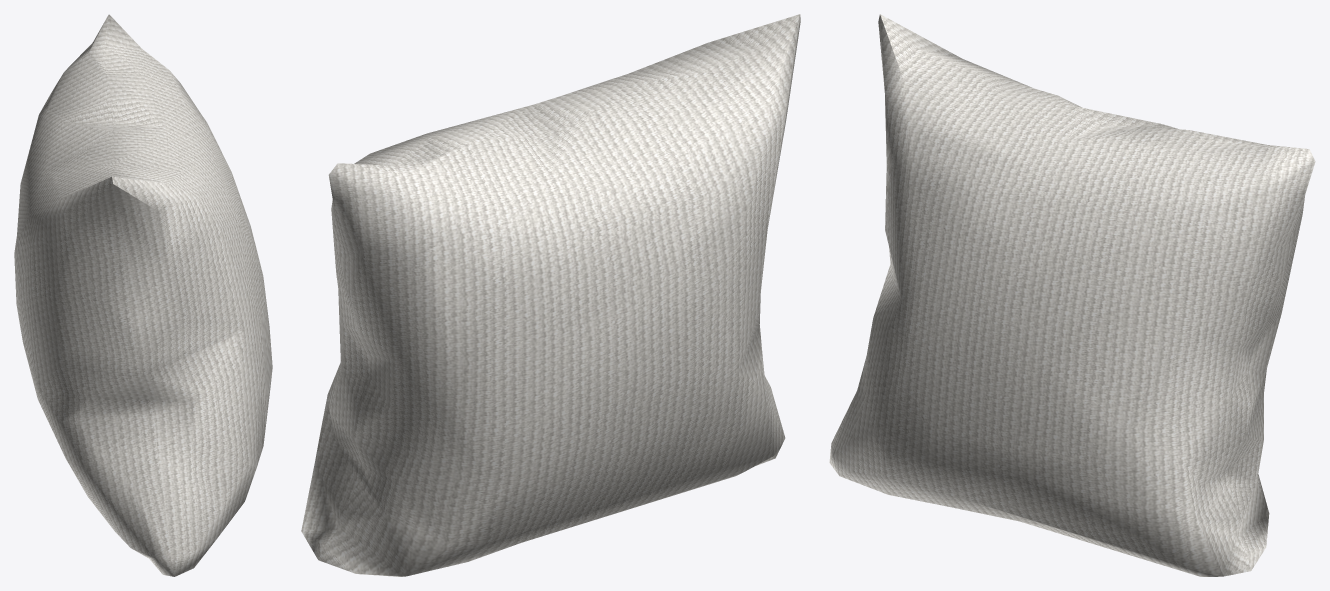
File: SM_Cushion_2.fbx
3 renders of one model, left to right at view 1: azimuth 30°, elevation 25°; view 2: azimuth 150°, elevation 25°; view 3: azimuth 270°, elevation 25°, orthographic. The views are drawn at different scales.
Visible parts, largest first — view 1: Cushion; view 2: Cushion; view 3: Cushion.
Part boxes in pixels (x1,y1,x2,y2): Cushion: (14,14,272,576); Cushion: (301,14,800,576); Cushion: (829,14,1315,576).
Size of the model in its own units: 0.2815 by 0.3696 by 0.3742.
Materials: 1 (1 with a texture image).
